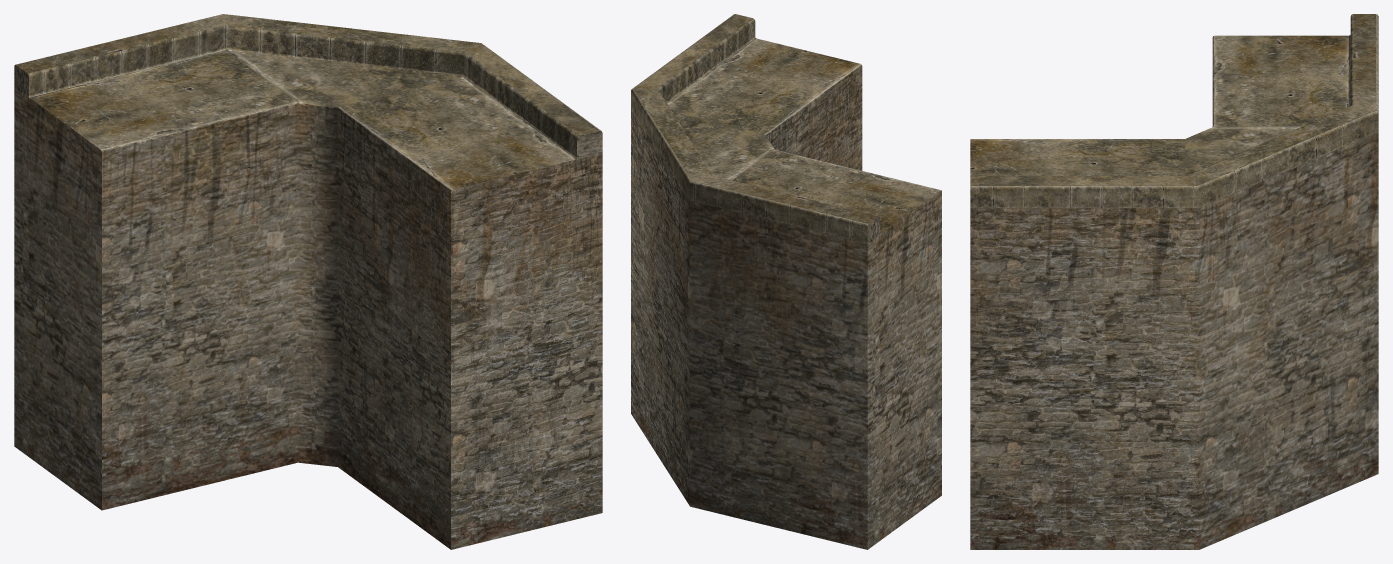
File: modular_fort_01_wall_walkway_corner_01.gltf
3 renders of one model, left to right at view 1: azimuth 30°, elevation 25°; view 2: azimuth 150°, elevation 25°; view 3: azimuth 270°, elevation 25°, orthographic. The views are drawn at different scales.
Visible parts, largest first — view 1: modular_fort_01_wall_walkway_corner_01__x; view 2: modular_fort_01_wall_walkway_corner_01__x; view 3: modular_fort_01_wall_walkway_corner_01__x.
Boxes of the visible parts, left/top/right/bottom form: modular_fort_01_wall_walkway_corner_01__x: left=14, top=14, right=602, bottom=549; modular_fort_01_wall_walkway_corner_01__x: left=631, top=14, right=941, bottom=549; modular_fort_01_wall_walkway_corner_01__x: left=970, top=14, right=1378, bottom=549.
Size of the model in its own units: 7.68 by 7.53 by 7.68.
Materials: 2 (2 with a texture image).
